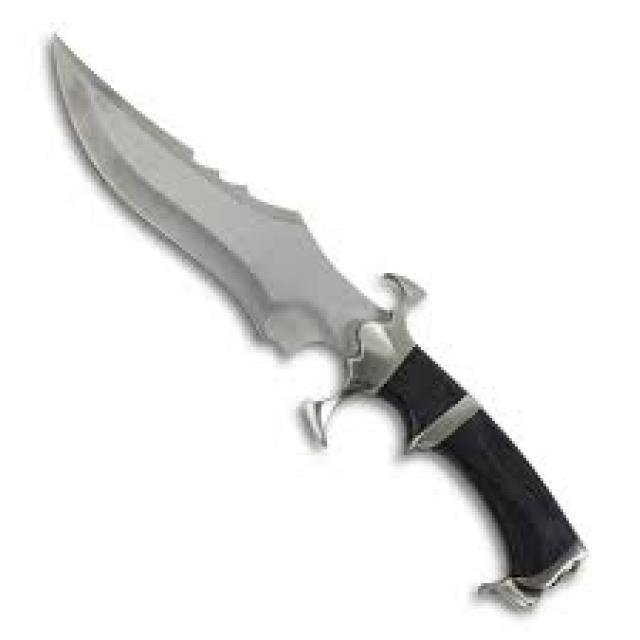knives: (39, 26, 592, 617)
